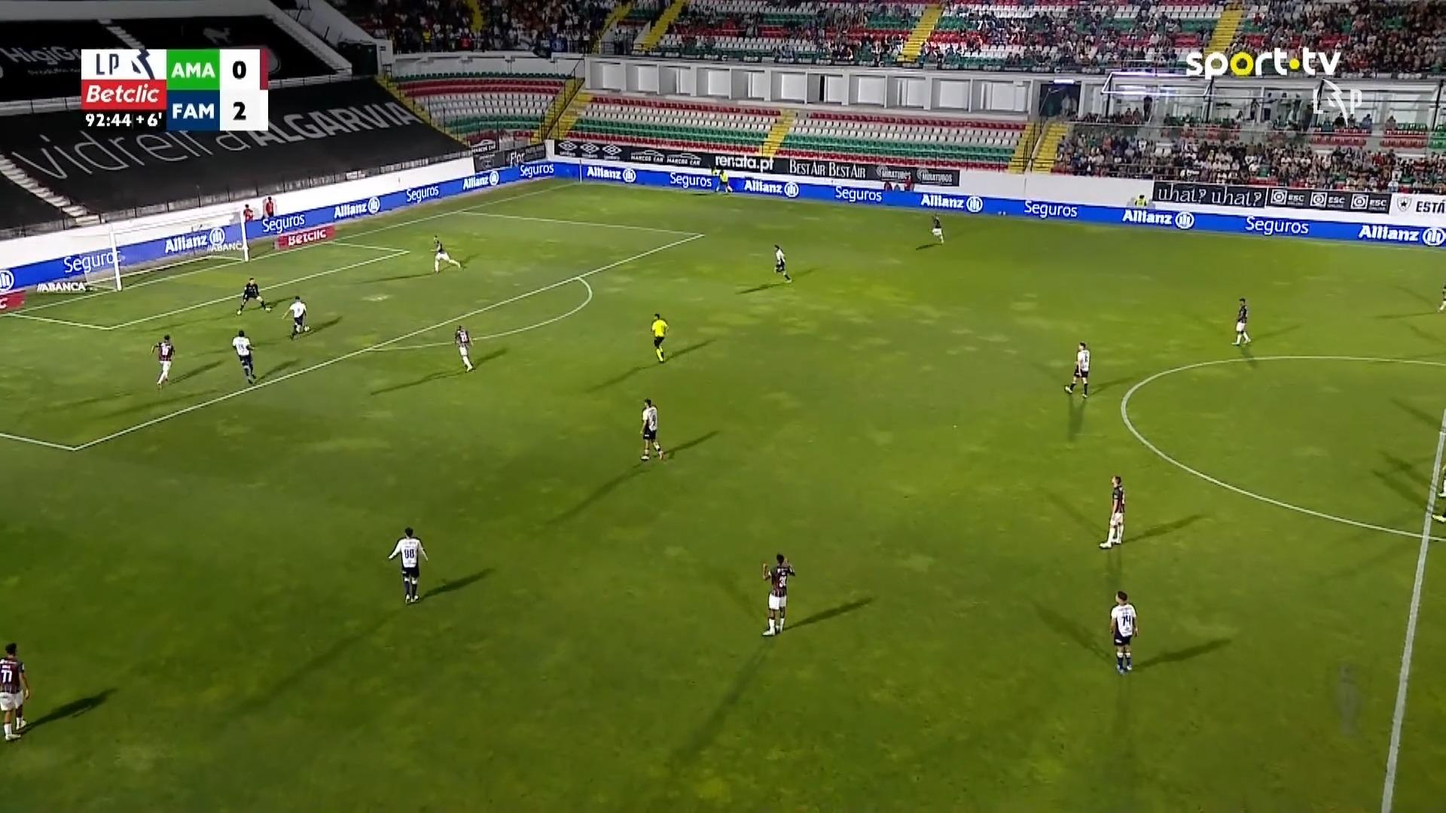ball: (653, 442, 660, 450), (640, 454, 648, 461)
goalkeeper: (236, 277, 272, 315)
player: (386, 525, 429, 604), (0, 641, 30, 740), (761, 552, 795, 636), (1109, 589, 1138, 674), (1098, 474, 1125, 549), (639, 397, 664, 461), (1063, 341, 1091, 397), (231, 328, 257, 385), (150, 333, 175, 387), (429, 234, 463, 273), (281, 295, 310, 340), (453, 324, 474, 371), (1232, 297, 1251, 346), (772, 243, 792, 282), (930, 214, 944, 245), (1436, 283, 1445, 312)
referee: (650, 312, 669, 363), (716, 169, 734, 196)
